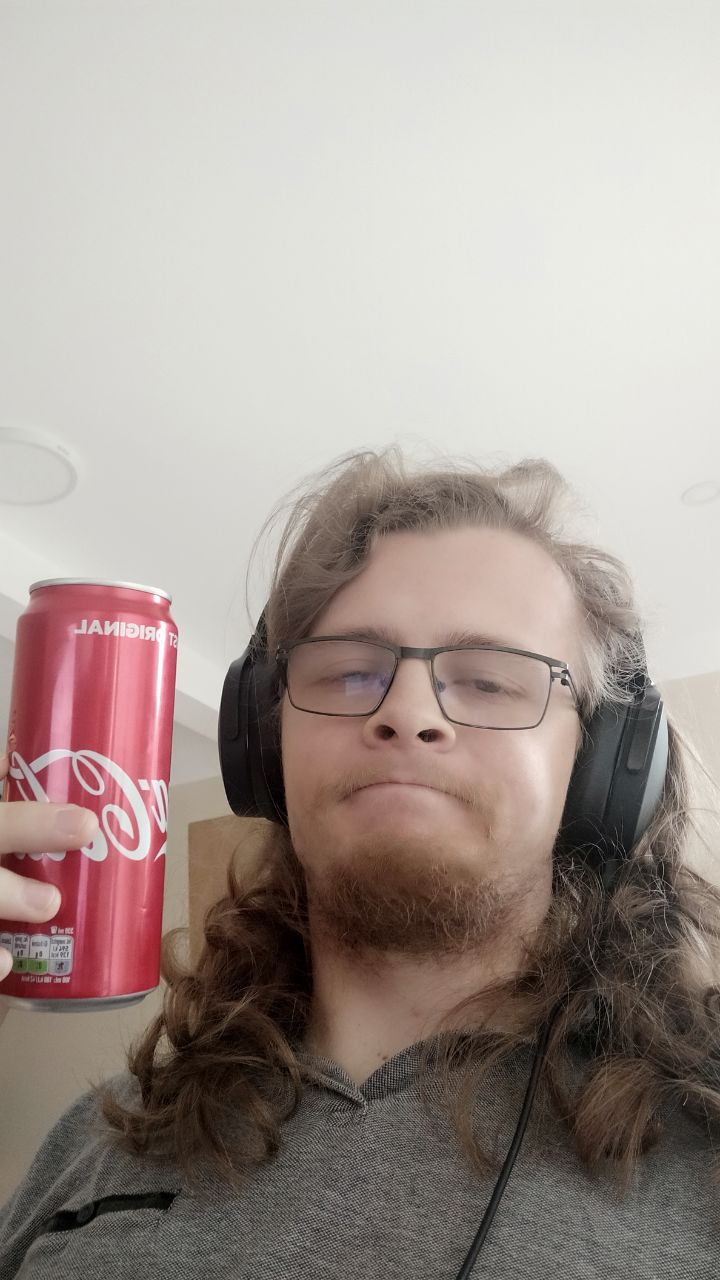Can: (1, 580, 181, 1012)
